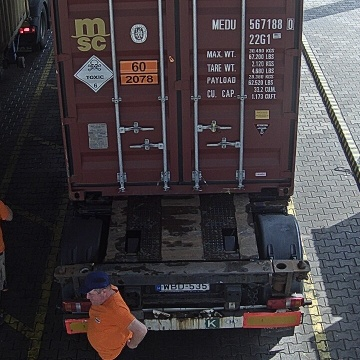serial_id: (212, 18, 294, 29)
